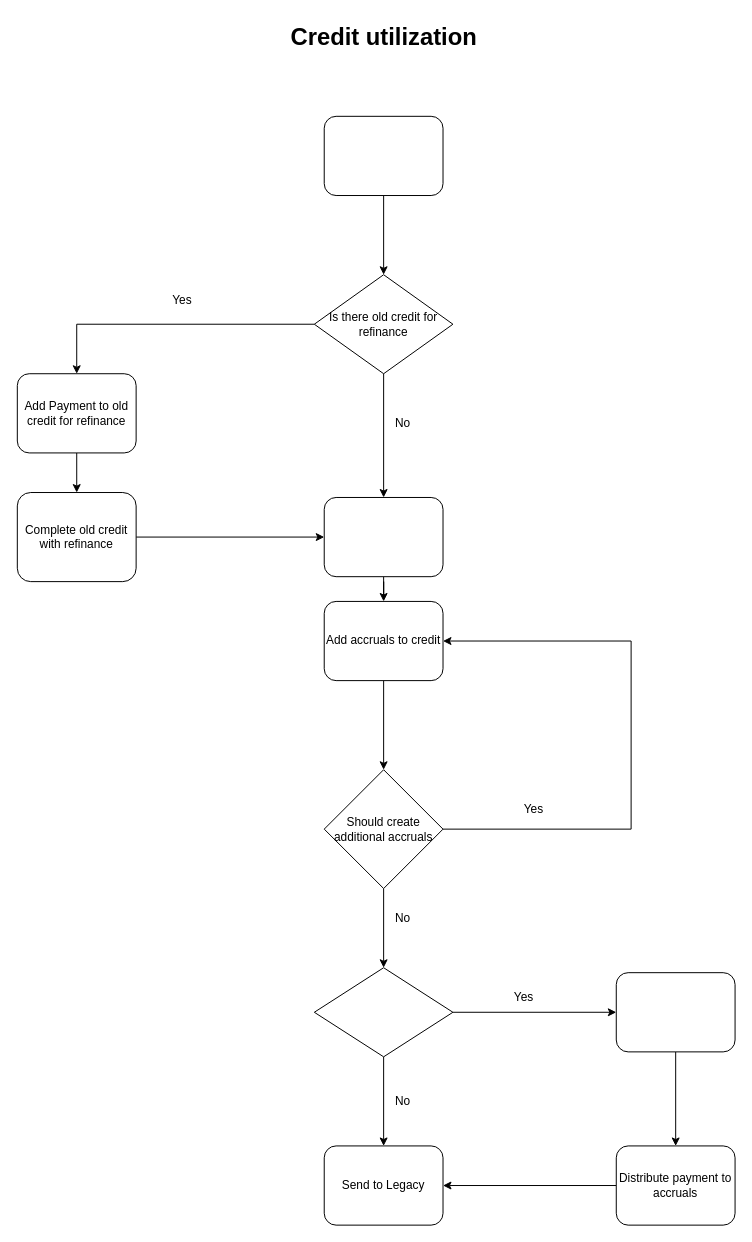
Some shapes in this 752 by 1242 pixel diagram are drawn without their labels. The shapes that lost their labels are listed below. From the top down, each one's box as (x1, y1, x2, y2) in pixels, then its label:
(323, 115, 443, 196): Utilize credit
(323, 496, 443, 577): Add credit
(313, 967, 453, 1057): Is client have bonus point/loyal program
(615, 972, 735, 1052): Add payment for bonus point amount
